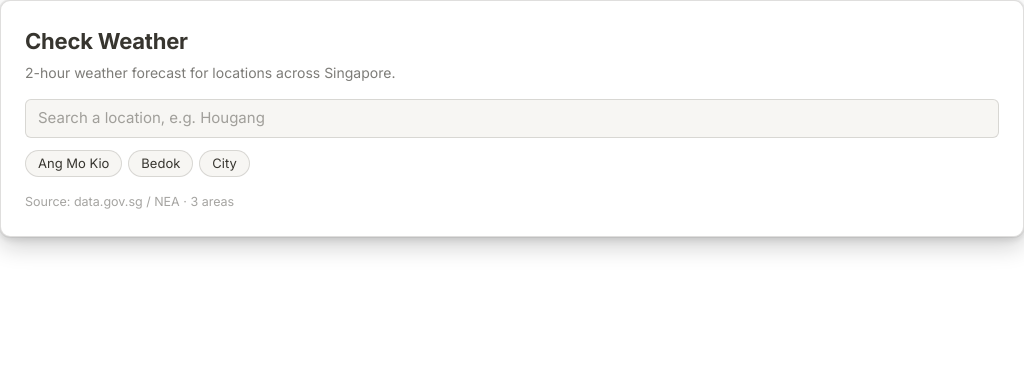
Test: WeatherForecast › loads areas and shows the forecast for a chosen location
The image size is (1024, 386).
Type "bedok" into the dropdown labelled "location" at (512, 118), box [25,99,999,138]
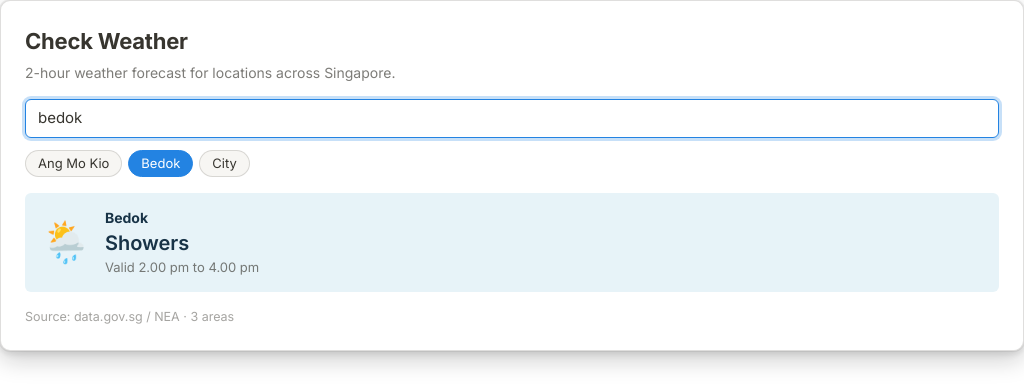
Now the message shows "Showers", box [105,231,189,255]
Now the message shows "2.00 pm to 4.00 pm", box [138,259,259,275]
